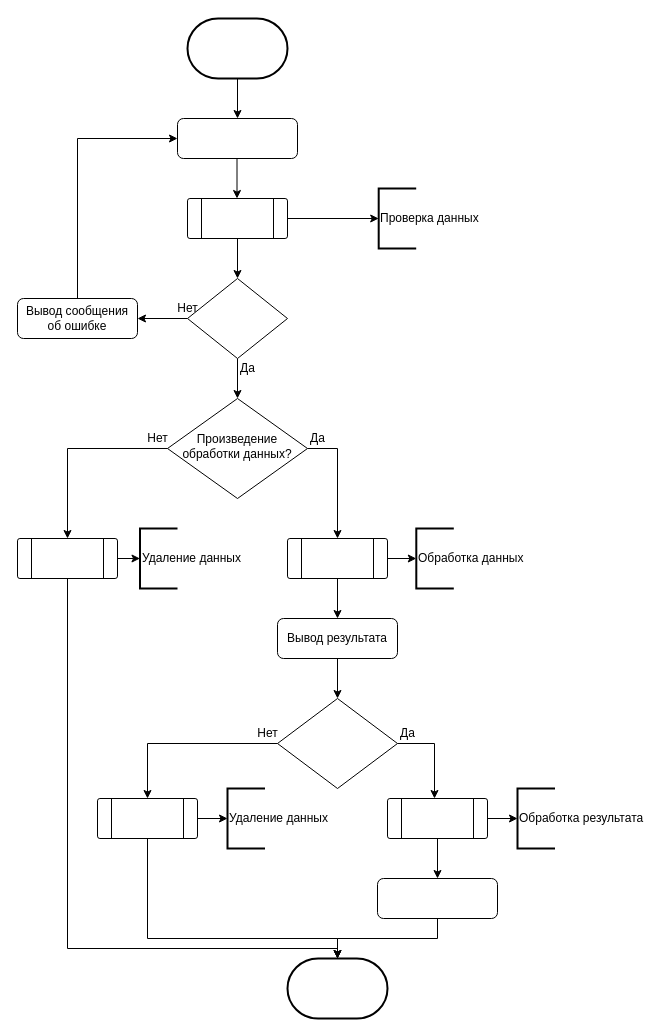
Some shapes in this 661 by 1036 pixel diagram are drawn without their labels. The shapes that lost their labels are listed below. From the top down, each one's box as (x1, y1, x2, y2) in pixels, then its label:
(176, 118, 298, 158): Ввод входных данных
(186, 278, 288, 358): Данные корректны?
(276, 698, 398, 788): Получить рекомендации?
(376, 878, 498, 918): Вывод рекомендаций
